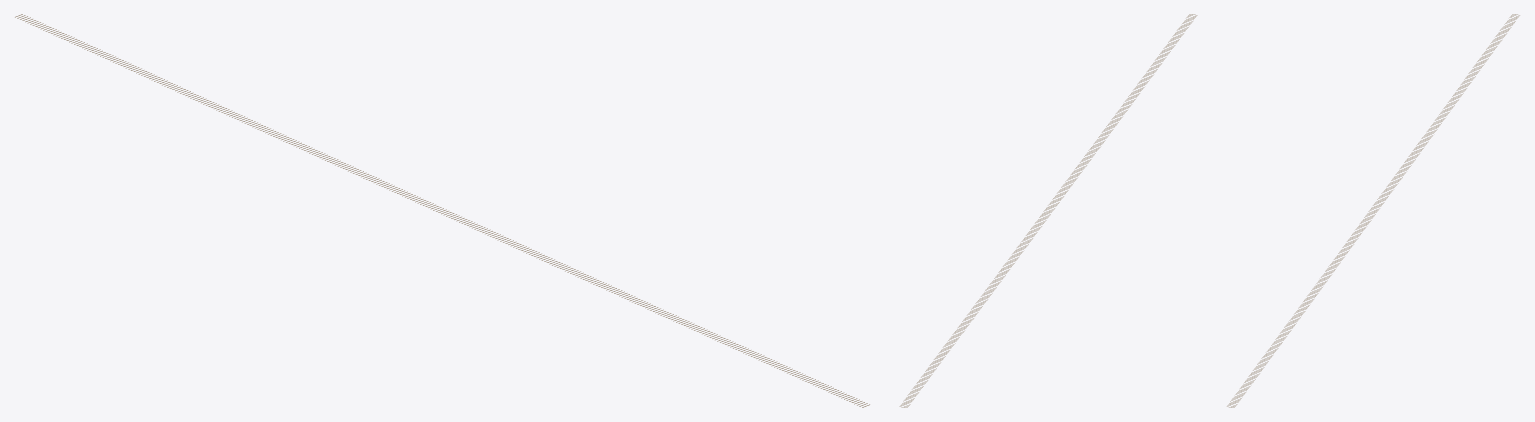
The model's file is c_1629_17815_rail_sleeper.glb.
3 views of the same model, side by side, from view 1: azimuth 30°, elevation 25°; view 2: azimuth 150°, elevation 25°; view 3: azimuth 330°, elevation 25° (orthographic). The views are drawn at different scales.
Parts seen in each view (by area): view 1: geometry_0; view 2: geometry_0; view 3: geometry_0.
Boxes of the visible parts, left/top/right/bottom form: geometry_0: left=15, top=14, right=869, bottom=407; geometry_0: left=899, top=14, right=1197, bottom=407; geometry_0: left=1227, top=14, right=1519, bottom=407.
Size of the model in its own units: 60.51 by 0.8862 by 257.
